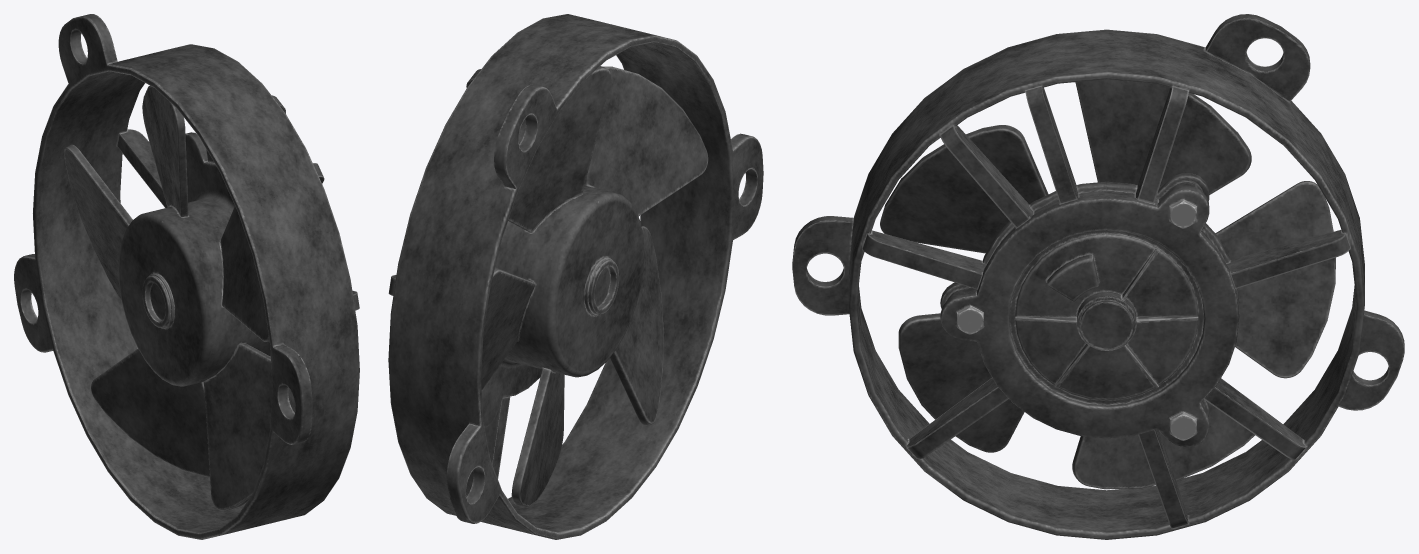
The model's file is kipasPendingin.glb.
The picture shows the model from 3 angles, left to right: view 1: azimuth 30°, elevation 25°; view 2: azimuth 150°, elevation 25°; view 3: azimuth 270°, elevation 25°; orthographic projection. The views are drawn at different scales.
Parts seen in each view (by area): view 1: kipasPendingin; view 2: kipasPendingin; view 3: kipasPendingin.
Boxes of the visible parts, x1=… form: kipasPendingin: x1=14, y1=14, x2=359, y2=539; kipasPendingin: x1=388, y1=14, x2=763, y2=539; kipasPendingin: x1=792, y1=14, x2=1404, y2=539.
Bounding box in the file's own units: 1.13 × 4.03 × 4.62.
1 material, 1 textured.
